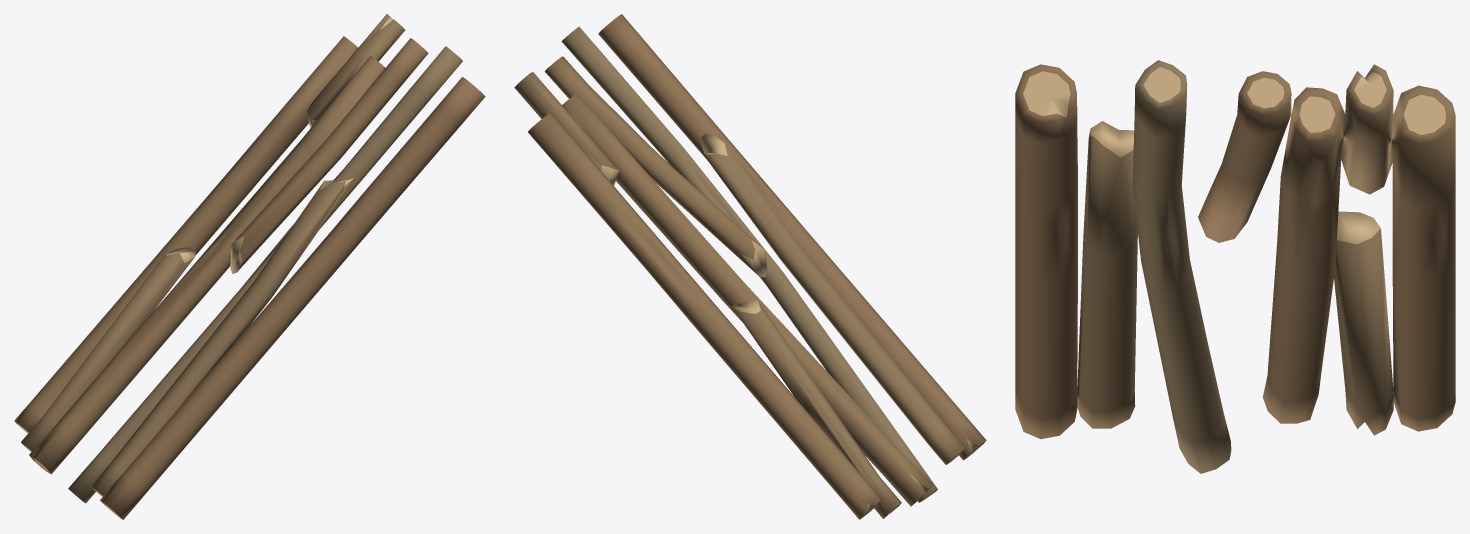
The model's file is rpgpp_av_roof_01_9x4x3_half_b.gltf.
3 views of the same model, side by side, from view 1: azimuth 30°, elevation 25°; view 2: azimuth 150°, elevation 25°; view 3: azimuth 270°, elevation 25° (orthographic). The views are drawn at different scales.
Parts seen in each view (by area): view 1: rpgpp_av_roof_01_9x4x3_half_b; view 2: rpgpp_av_roof_01_9x4x3_half_b; view 3: rpgpp_av_roof_01_9x4x3_half_b.
Boxes of the visible parts, x1,y1,x2,y2 form: rpgpp_av_roof_01_9x4x3_half_b: (14, 14, 485, 519); rpgpp_av_roof_01_9x4x3_half_b: (514, 14, 986, 519); rpgpp_av_roof_01_9x4x3_half_b: (1015, 60, 1455, 473).
Size of the model in its own units: 0.0625 by 0.0569 by 0.03.
1 material, 1 textured.
